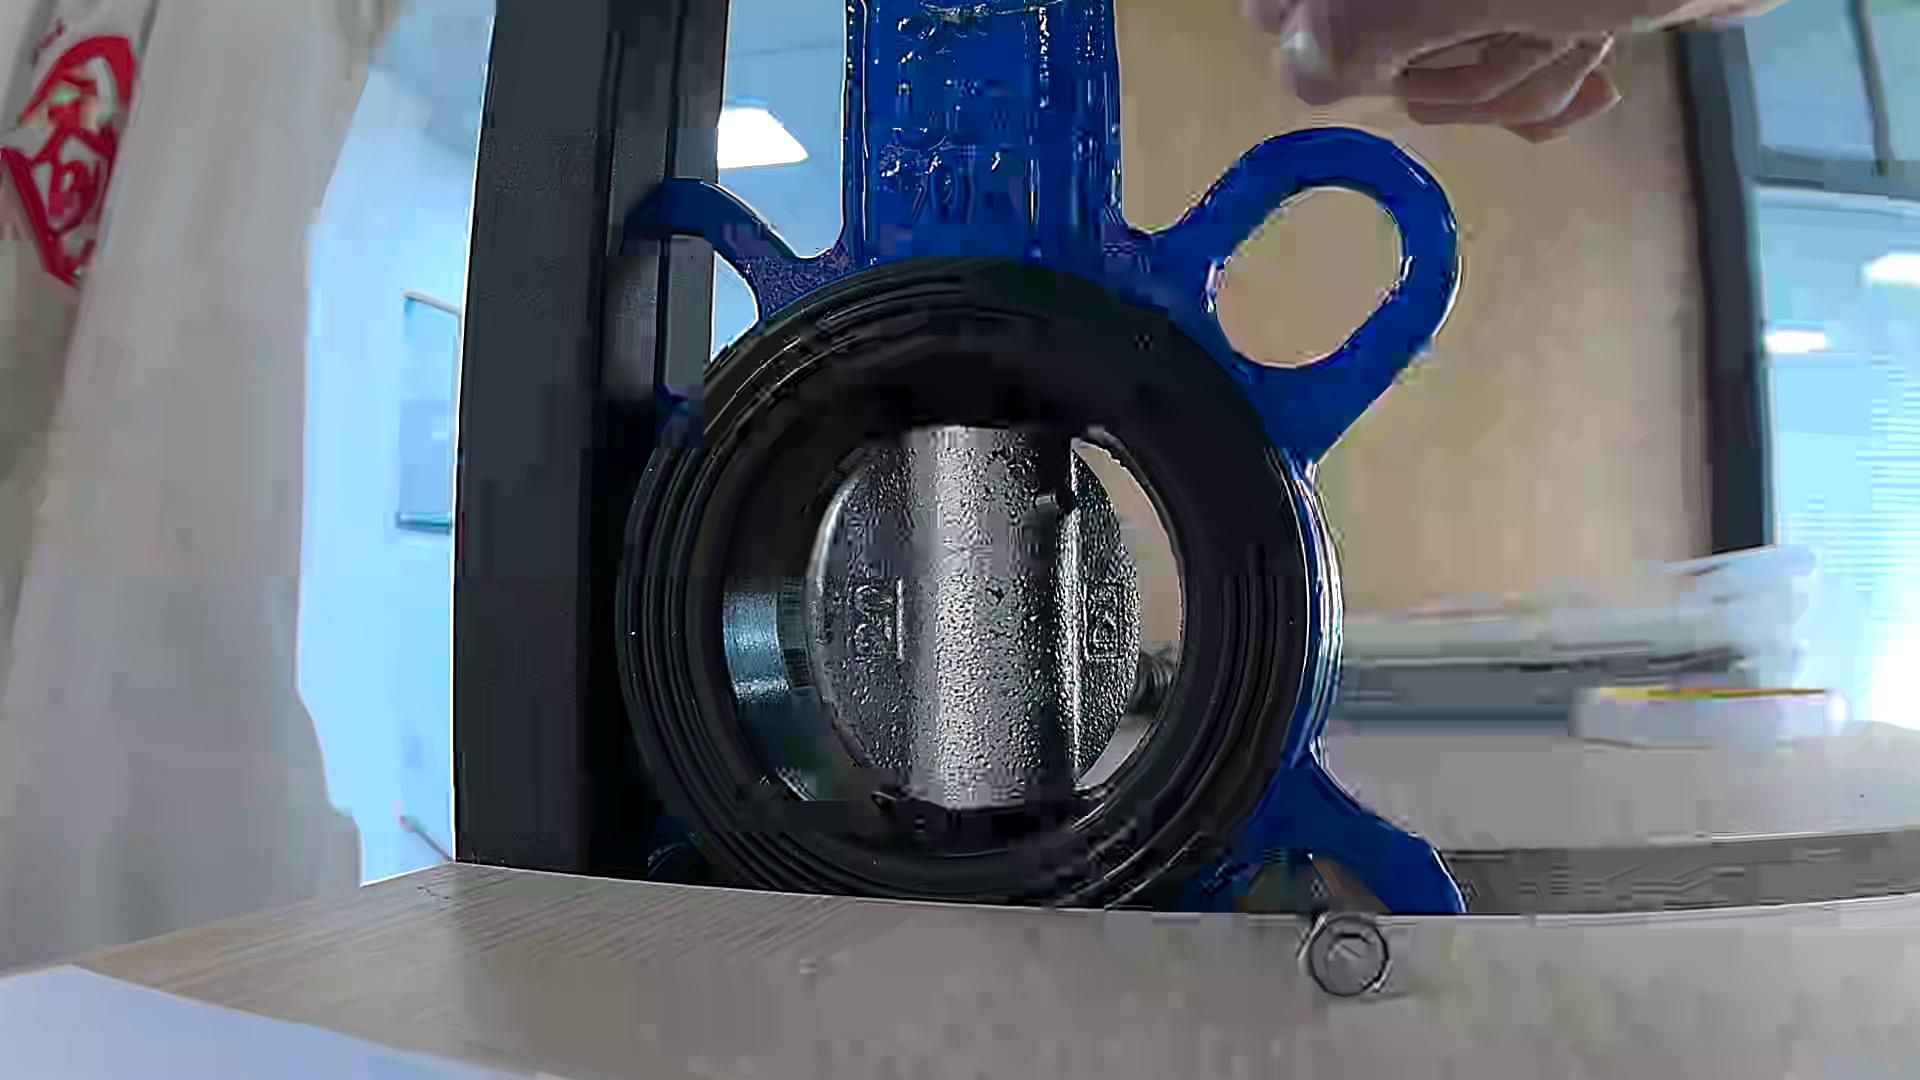valve: (806, 423, 1139, 810)
